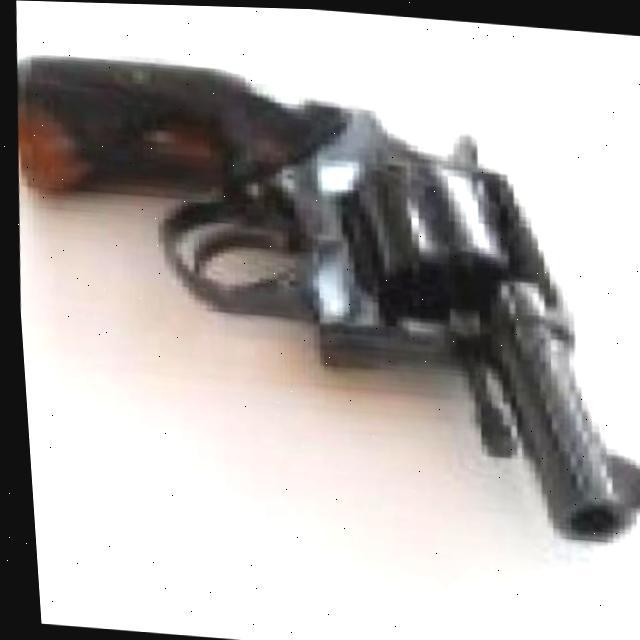gun: (2, 31, 640, 541)
